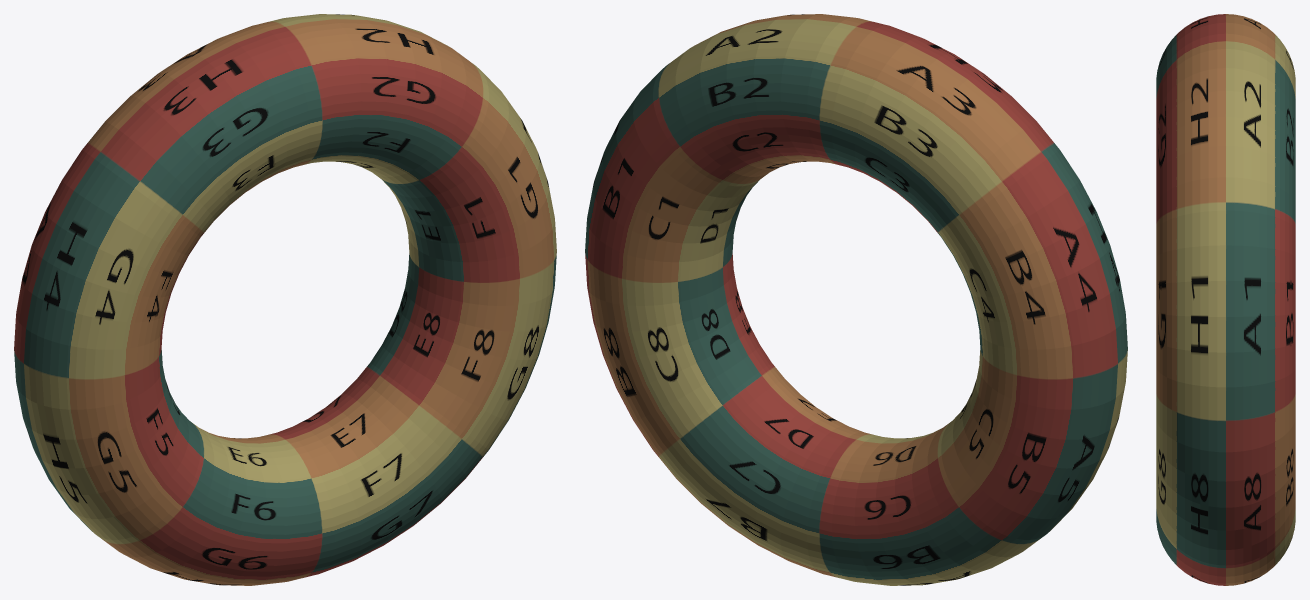
Rendered from texture_torus_R19_r20.glb.
3 views of the same model, side by side, from view 1: azimuth 30°, elevation 25°; view 2: azimuth 150°, elevation 25°; view 3: azimuth 270°, elevation 25° (orthographic). The views are drawn at different scales.
Visible parts, largest first — view 1: world; view 2: world; view 3: world.
Part boxes in pixels (x1,y1,x2,y2): world: [14, 14, 556, 585]; world: [585, 14, 1127, 585]; world: [1156, 14, 1295, 585].
Size of the model in its own units: 30 by 29.94 by 7.32.
1 material, 1 textured.
